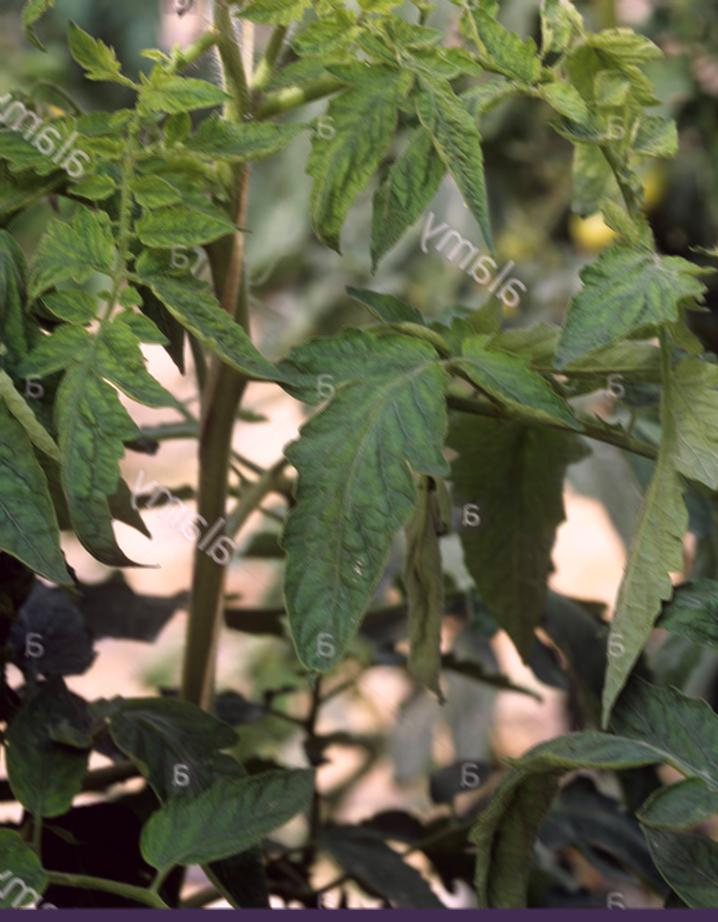Tomato leaf yellow virus: (54, 54, 256, 561), (534, 320, 718, 728), (271, 339, 448, 682), (400, 26, 488, 272)
